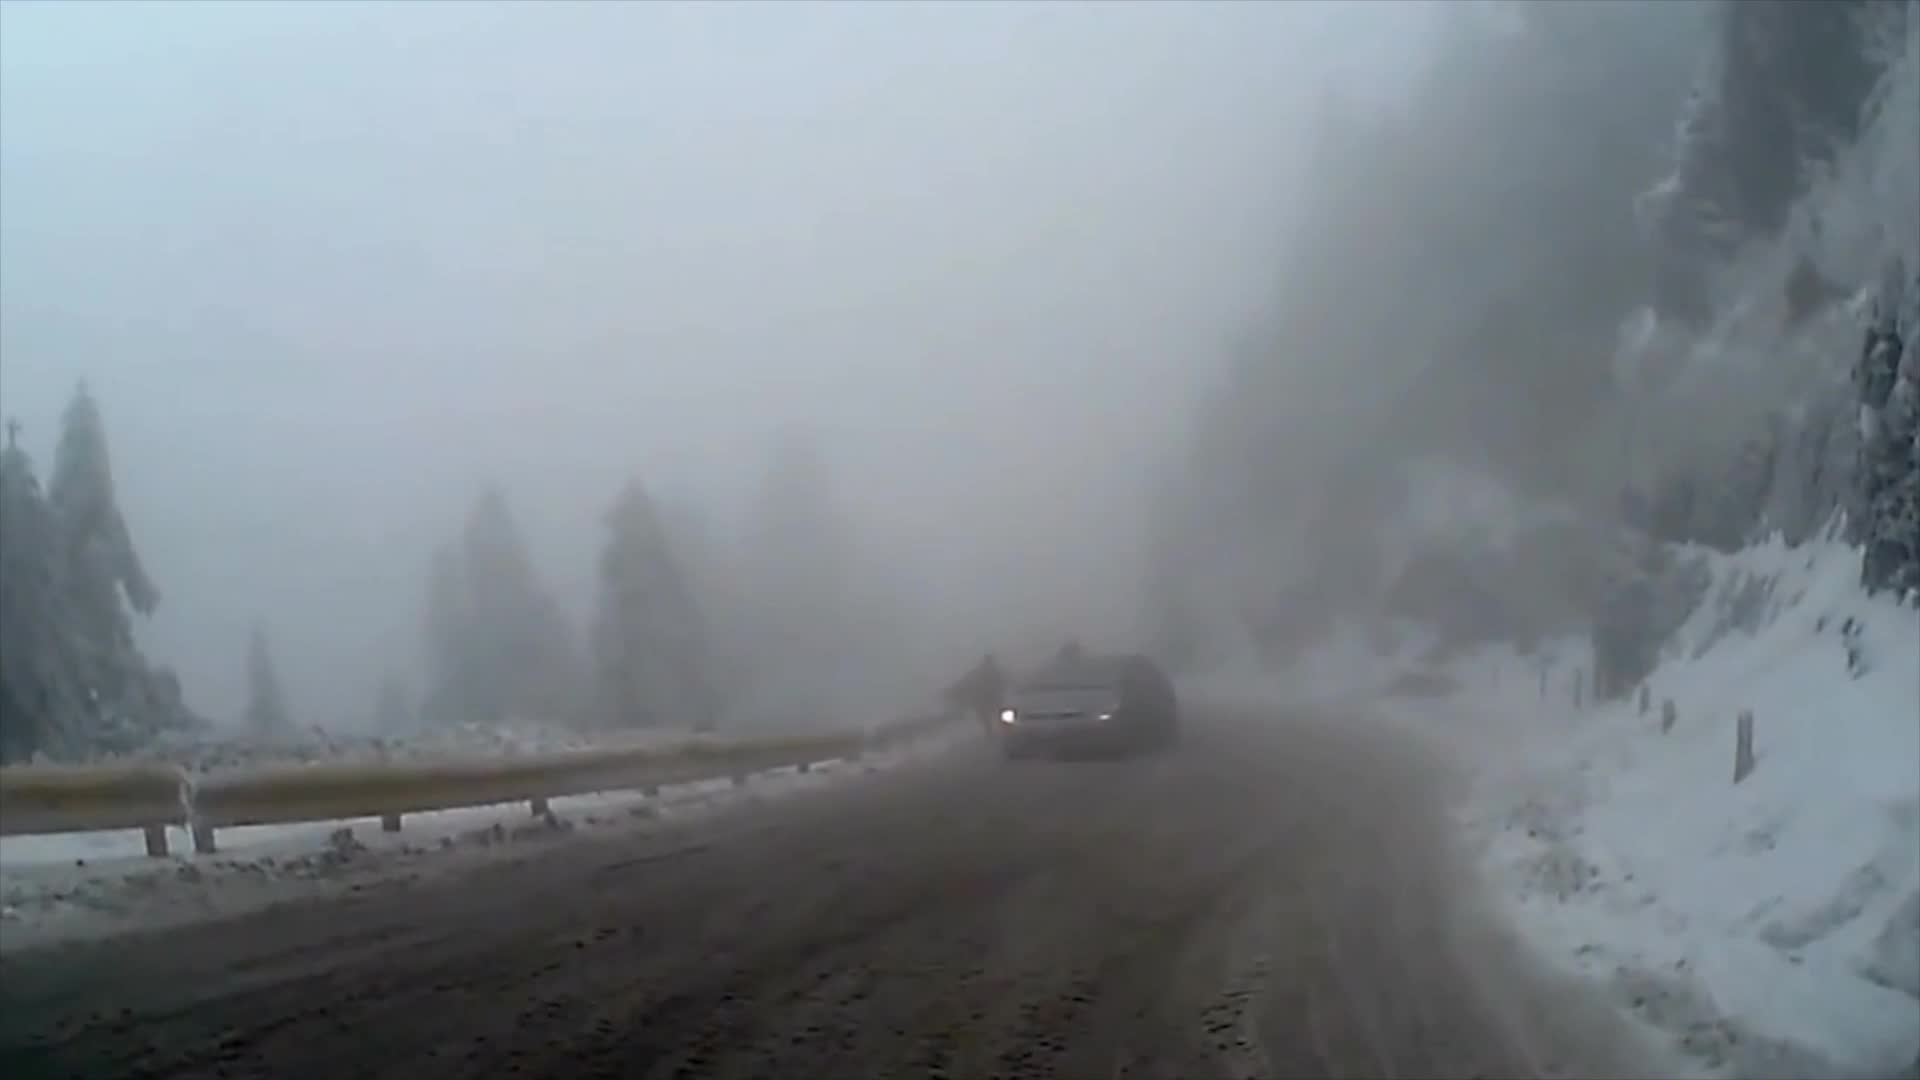vehicle: (994, 650, 1180, 764)
